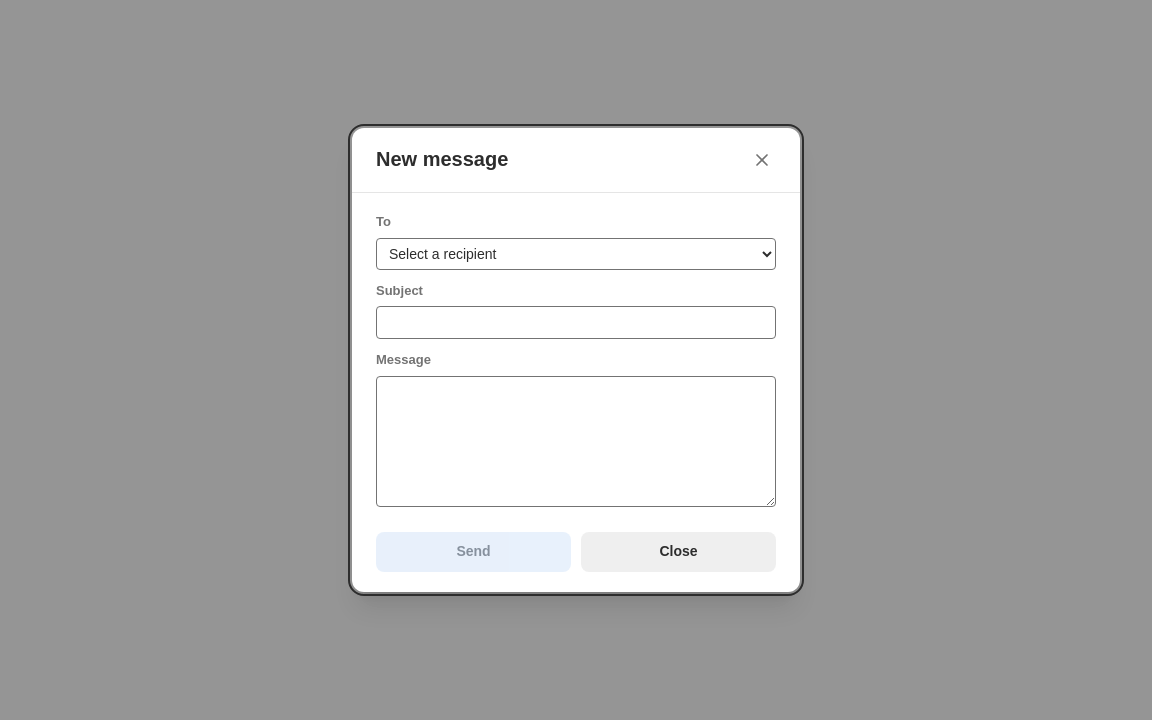
ComposeEmailModal › keeps Send disabled until a recipient, subject and body are all set
Expected: the button "Send" is disabled, top-left (376, 532), bottom-right (571, 572)
Select "Kate Ashford · Instructor" in the dropdown labelled "To" at (576, 254), box top-left (376, 238), bottom-right (776, 270)
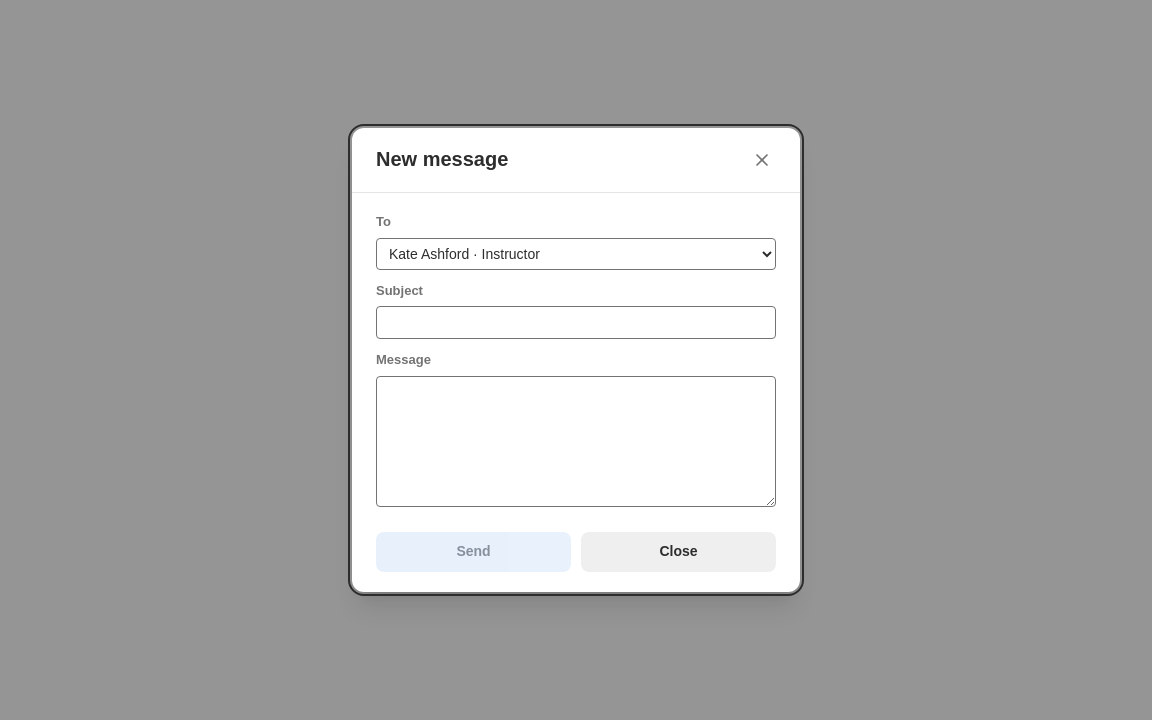
Type "Hi" into the field labelled "Subject" at (576, 322), box top-left (376, 306), bottom-right (776, 339)
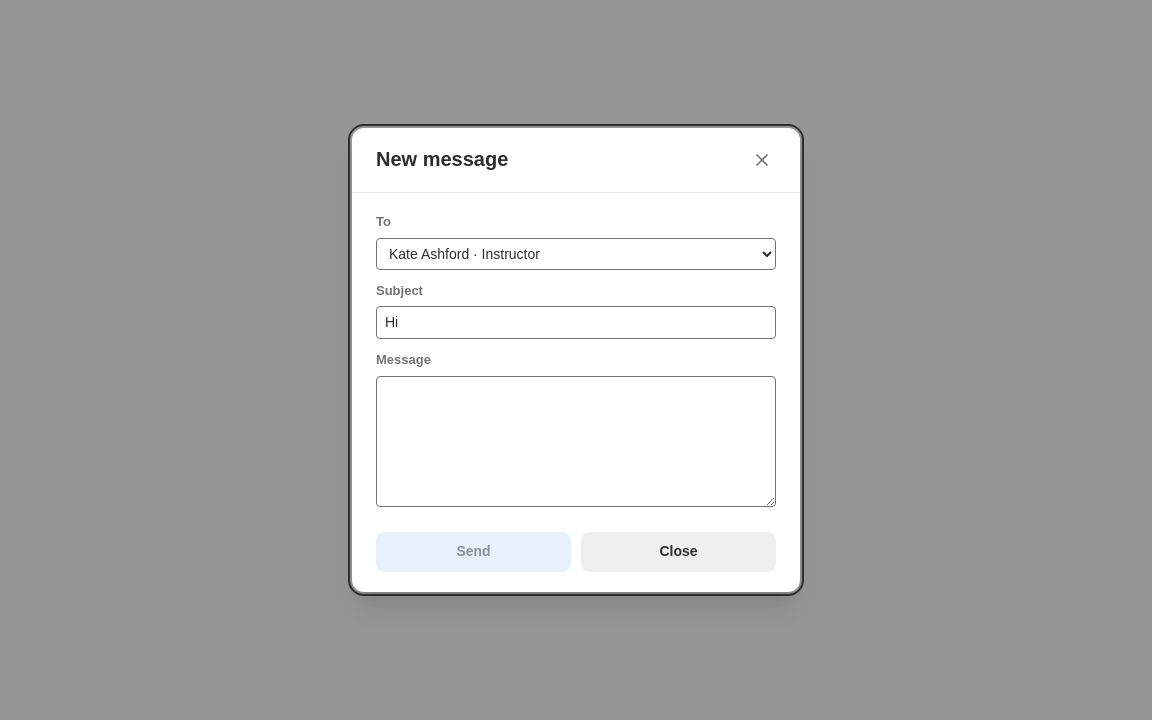
Expected: the button "Send" is disabled, top-left (376, 532), bottom-right (571, 572)
Type "Body text" into the text box labelled "Message" at (576, 441), box top-left (376, 376), bottom-right (776, 507)
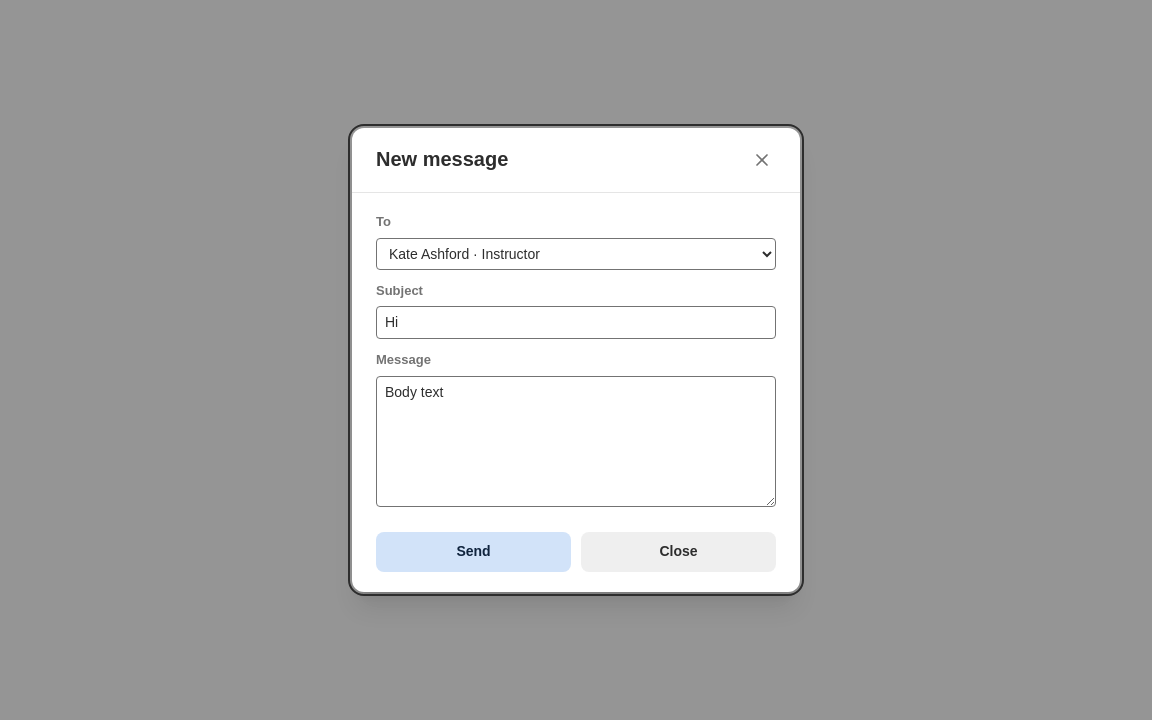
Expected: the button "Send" is enabled, top-left (376, 532), bottom-right (571, 572)
